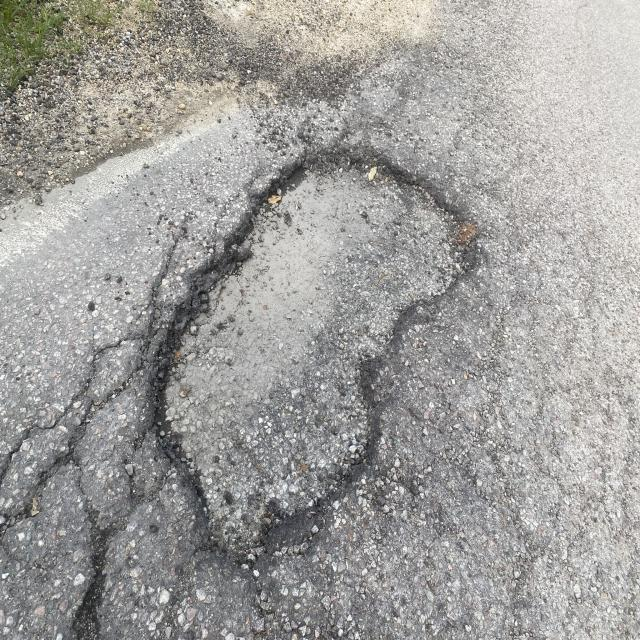pothole: (126, 107, 510, 600)
